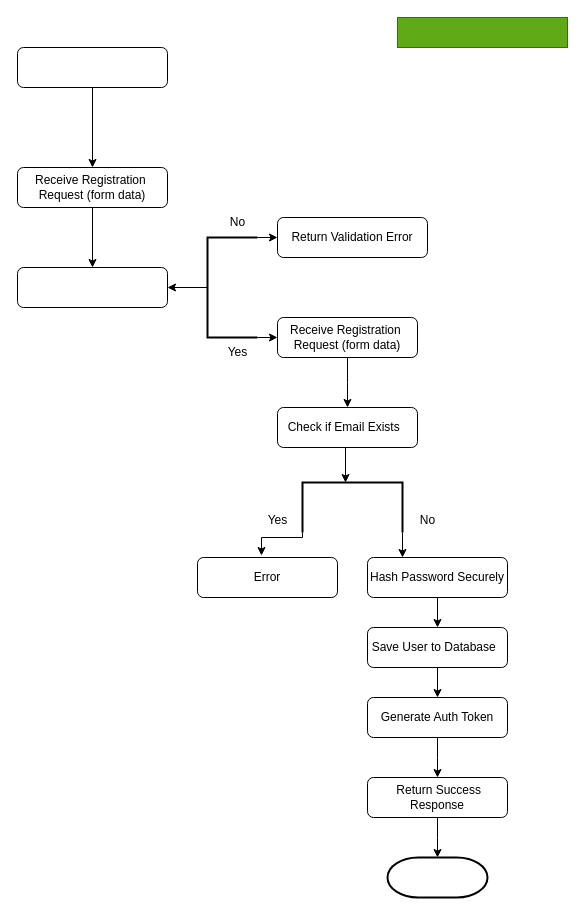
Some shapes in this 585 by 916 pixel diagram are drawn without their labels. The shapes that lost their labels are listed below. From the top down, each one's box as (x1, y1, x2, y2) in pixels, then its label:
(396, 16, 568, 48): Flow Chart Diagram
(16, 46, 168, 88): Start Registration
(16, 266, 168, 308): Validate Input Fields (email, password)
(386, 856, 488, 898): End
